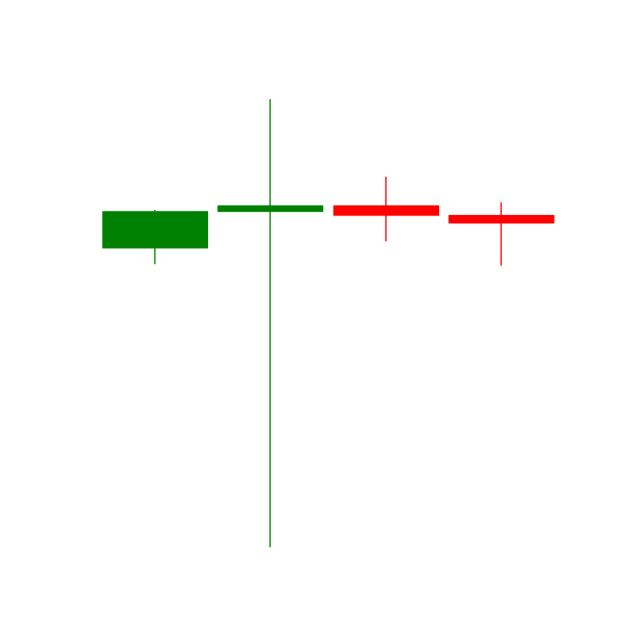Dragonfly Doji: (443, 200, 559, 266)
Long-Legged Doji: (216, 94, 324, 551)
spinning top: (331, 176, 439, 242)
